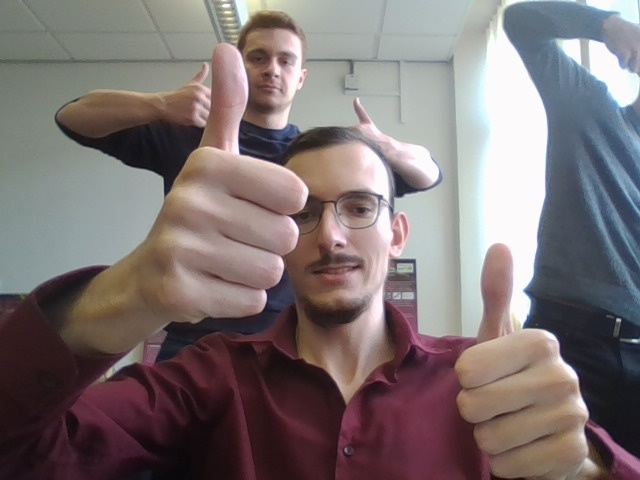thumbup: (140, 43, 307, 325), (456, 243, 591, 478), (162, 62, 213, 128)
